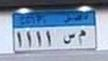1: (44, 30, 52, 49), (35, 29, 43, 48), (16, 30, 23, 49), (25, 30, 32, 48)
meem: (77, 29, 87, 48)
seen: (62, 32, 75, 47)
